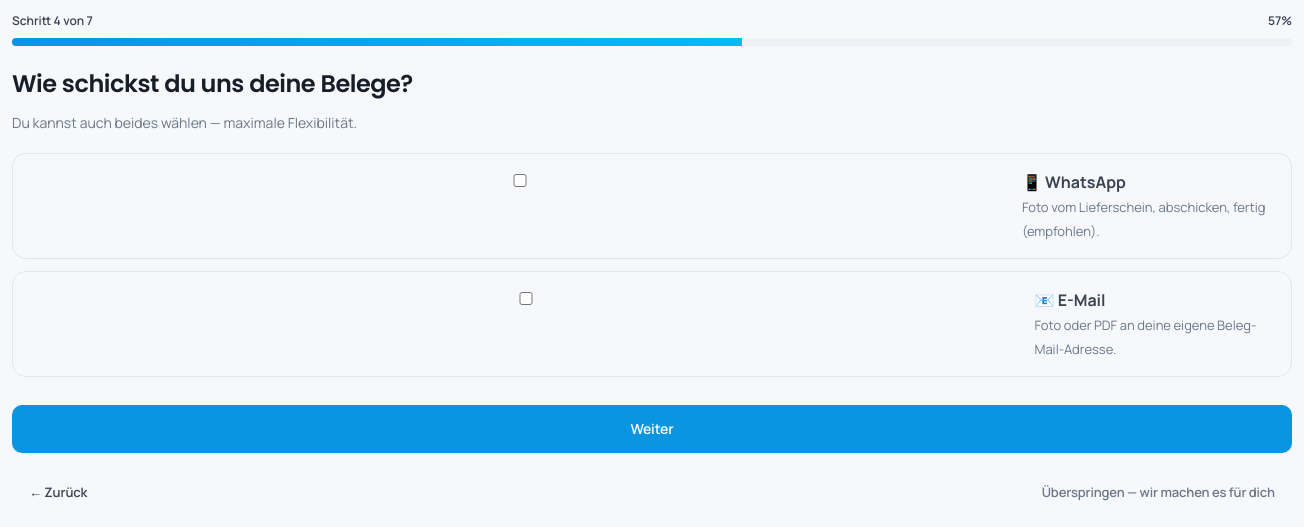
Scenario: WizardFlow › Zurück springt zum vorherigen Schritt
The image size is (1304, 527).
Click the button "← Zurück": (58,492) [12,473,104,511]
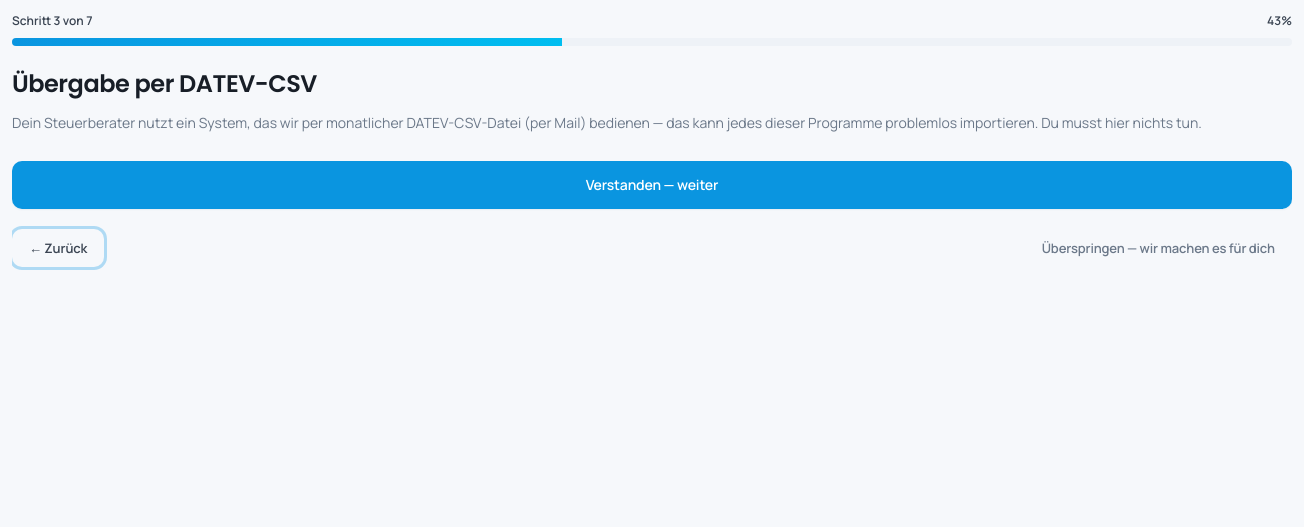
Now the text "Schritt 3 von 7" is shown, box [12,12,92,30]
Now the heading "Übergabe per DATEV-CSV" is shown, box [12,67,317,100]
